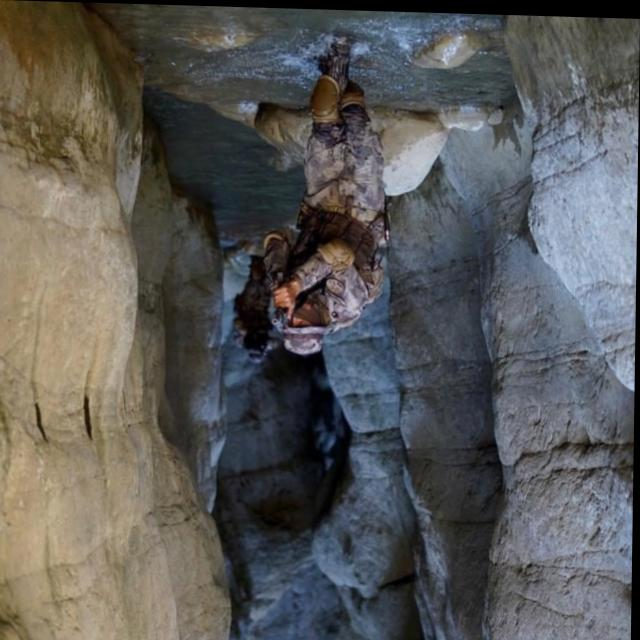poh_personel: (266, 29, 391, 356)
